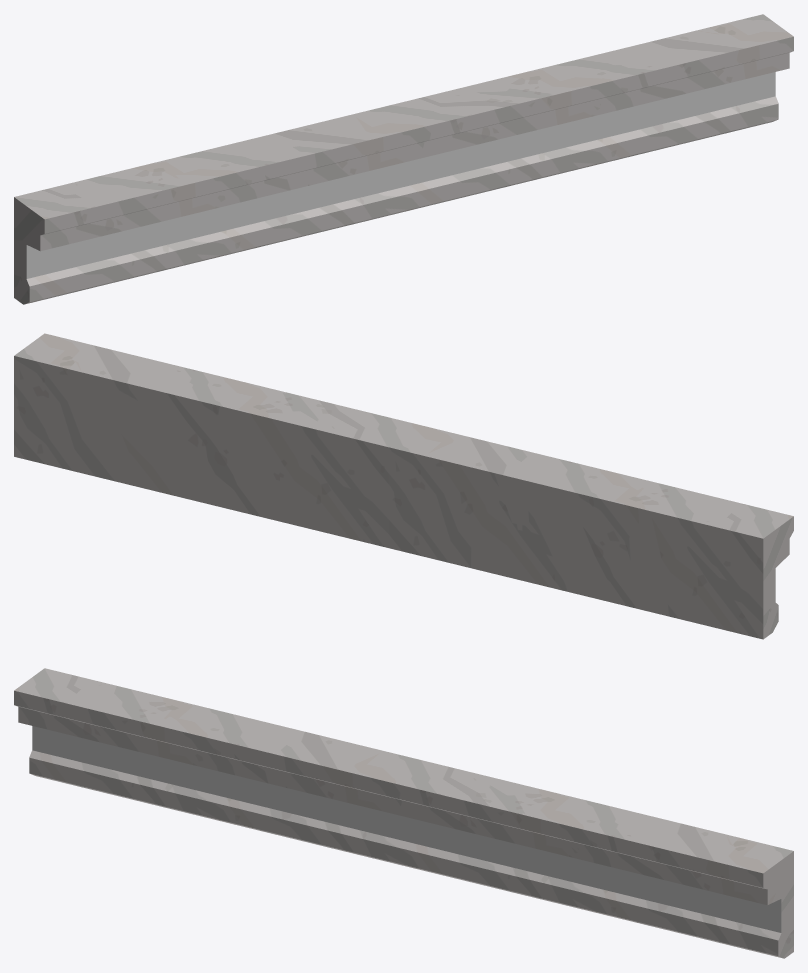
The model's file is SM_Bld_Trim_Large_01.fbx.
3 renders of one model, top to bottom at view 1: azimuth 30°, elevation 25°; view 2: azimuth 150°, elevation 25°; view 3: azimuth 330°, elevation 25°, orthographic.
Visible parts, largest first — view 1: SM_Bld_Trim_Large_01; view 2: SM_Bld_Trim_Large_01; view 3: SM_Bld_Trim_Large_01.
Part boxes in pixels (x1,y1,x2,y2): SM_Bld_Trim_Large_01: [14, 14, 793, 304]; SM_Bld_Trim_Large_01: [14, 333, 793, 639]; SM_Bld_Trim_Large_01: [14, 668, 793, 958].
Bounding box in the file's own units: 750 × 96.49 × 53.2.
